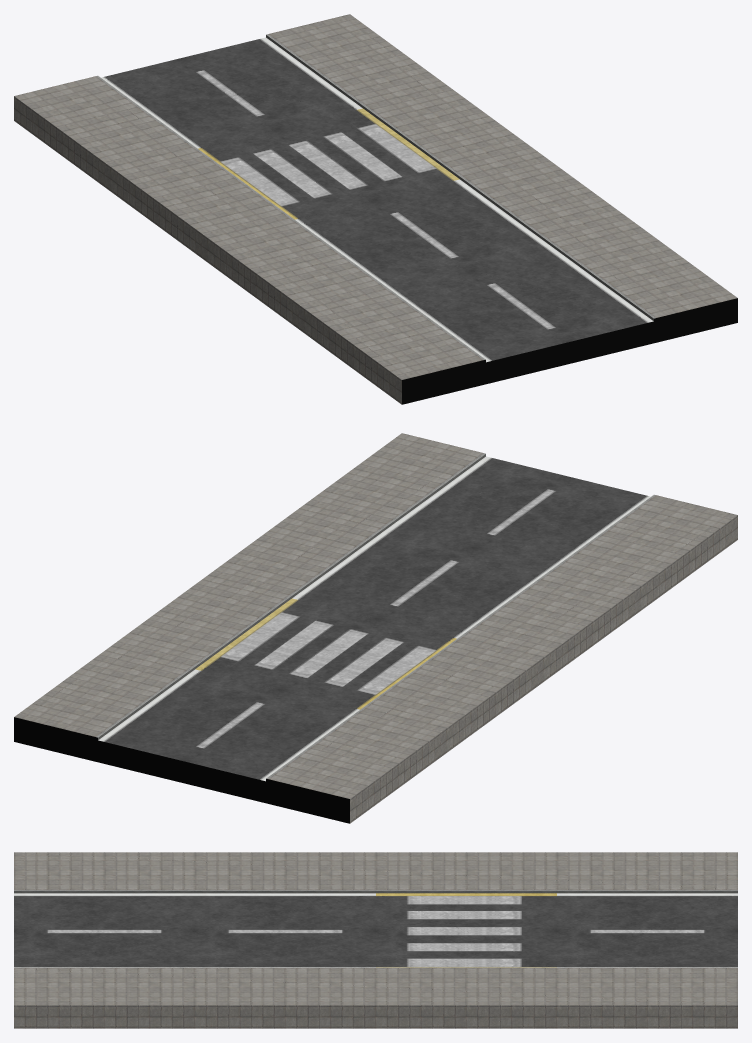
Rendered from SingleZebra_high.fbx.
3 renders of one model, top to bottom at view 1: azimuth 30°, elevation 25°; view 2: azimuth 150°, elevation 25°; view 3: azimuth 270°, elevation 25°, orthographic. The views are drawn at different scales.
Parts seen in each view (by area): view 1: materialA150, materialF150, materialE150, materialB150, materialC150, materialD150; view 2: materialA150, materialF150, materialE150, materialB150, materialC150, materialD150; view 3: materialA150, materialF150, materialE150, materialC150, materialD150.
Boxes of the visible parts, bbox=[...] form: materialA150: bbox=[14, 14, 737, 404]; materialF150: bbox=[101, 37, 653, 362]; materialE150: bbox=[198, 108, 459, 219]; materialB150: bbox=[402, 298, 737, 404]; materialC150: bbox=[95, 34, 655, 359]; materialD150: bbox=[266, 35, 653, 320]; materialA150: bbox=[14, 433, 737, 823]; materialF150: bbox=[98, 456, 650, 781]; materialE150: bbox=[195, 598, 456, 709]; materialB150: bbox=[14, 717, 349, 823]; materialC150: bbox=[96, 453, 656, 778]; materialD150: bbox=[98, 454, 485, 739]; materialA150: bbox=[14, 852, 737, 1028]; materialF150: bbox=[14, 893, 737, 967]; materialE150: bbox=[376, 893, 556, 967]; materialC150: bbox=[14, 889, 737, 968]; materialD150: bbox=[14, 890, 737, 893].
Bounding box in the file's own units: 25.6 × 1.8 × 51.2.
